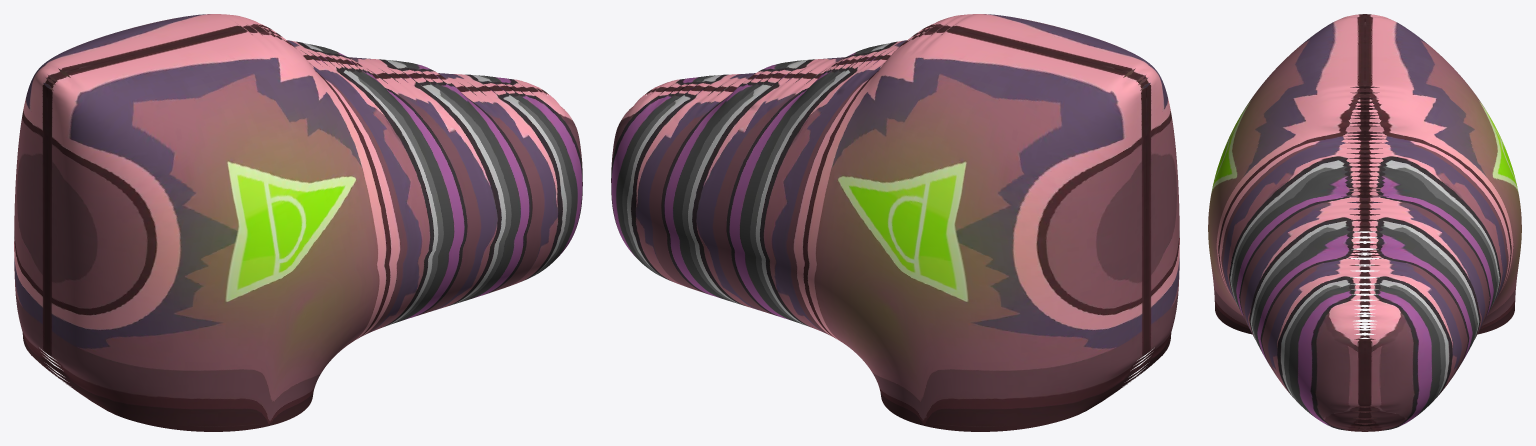
Rendered from arrow_console.glb.
The picture shows the model from 3 angles, left to right: view 1: azimuth 30°, elevation 25°; view 2: azimuth 150°, elevation 25°; view 3: azimuth 270°, elevation 25°; orthographic projection. The views are drawn at different scales.
Visible parts, largest first — view 1: arrow_console; view 2: arrow_console; view 3: arrow_console.
Boxes of the visible parts, bbox=[...] form: arrow_console: bbox=[14, 14, 582, 431]; arrow_console: bbox=[611, 14, 1179, 431]; arrow_console: bbox=[1208, 14, 1521, 431].
Size of the model in its own units: 0.989 by 0.5716 by 0.6522.
1 material, 1 textured.
